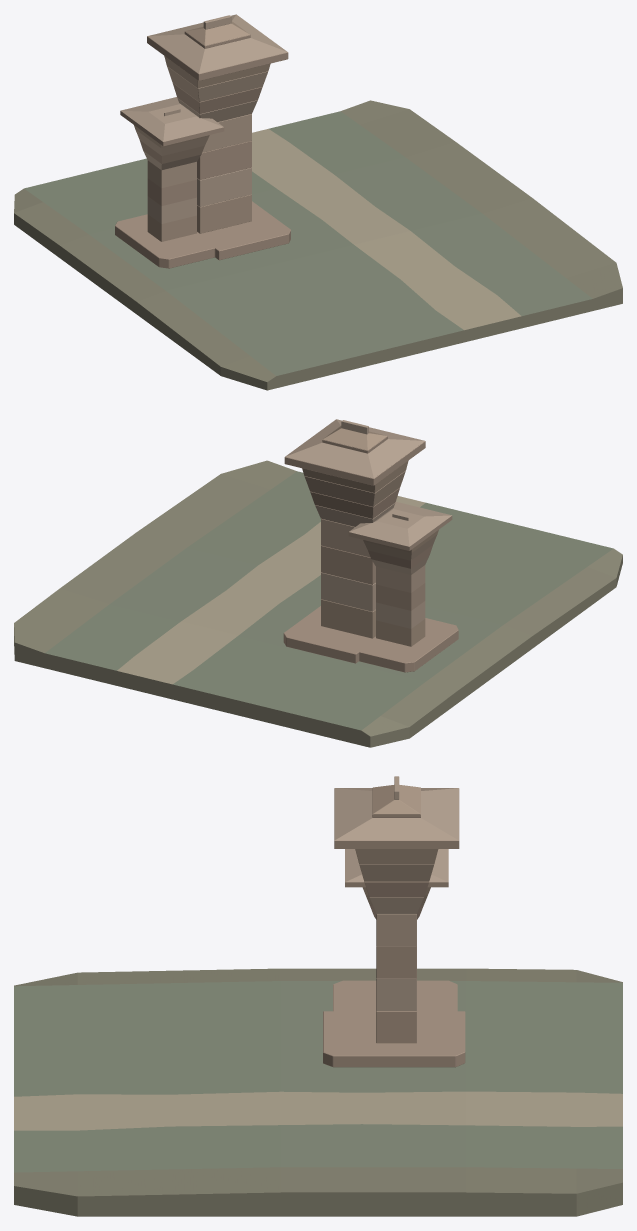
Rendered from que-B.glb.
3 renders of one model, top to bottom at view 1: azimuth 30°, elevation 25°; view 2: azimuth 150°, elevation 25°; view 3: azimuth 270°, elevation 25°, orthographic. The views are drawn at different scales.
Visible parts, largest first — view 1: C_continuous_terrain_and_tread, C_original_chamfered_plinth, B_main_lower_cover, B_sub_lower_cover, B_main_shaft_0, B_main_shaft_1, B_main_shaft_2, B_main_transition_2, B_main_broad_lower_eave, B_main_shaft_3, B_main_transition_1, B_sub_shaft_0 (+8 smaller); view 2: C_continuous_terrain_and_tread, C_original_chamfered_plinth, B_main_lower_cover, B_sub_lower_cover, B_main_shaft_0, B_main_shaft_1, B_main_shaft_2, B_main_transition_2, B_main_broad_lower_eave, B_main_shaft_3, B_main_transition_1, B_sub_shaft_0 (+9 smaller); view 3: C_continuous_terrain_and_tread, C_original_chamfered_plinth, B_main_lower_cover, B_main_compact_upper_cover, B_main_shaft_1, B_main_shaft_2, B_main_shaft_0, B_main_shaft_3, B_main_transition_3, B_main_transition_2, B_main_broad_lower_eave, B_sub_lower_cover (+2 smaller).
Boxes of the visible parts, x1=… form: C_continuous_terrain_and_tread: x1=14, y1=100, x2=622, y2=390; C_original_chamfered_plinth: x1=115, y1=201, x2=290, y2=268; B_main_lower_cover: x1=147, y1=14, x2=287, y2=73; B_sub_lower_cover: x1=121, y1=97, x2=223, y2=141; B_main_shaft_0: x1=197, y1=194, x2=251, y2=233; B_main_shaft_1: x1=197, y1=167, x2=251, y2=206; B_main_shaft_2: x1=197, y1=141, x2=251, y2=179; B_main_transition_2: x1=167, y1=66, x2=268, y2=101; B_main_broad_lower_eave: x1=147, y1=36, x2=288, y2=80; B_main_shaft_3: x1=202, y1=114, x2=251, y2=152; B_main_transition_1: x1=172, y1=83, x2=262, y2=113; B_sub_shaft_0: x1=147, y1=214, x2=196, y2=241; C_continuous_terrain_and_tread: x1=14, y1=460, x2=622, y2=747; C_original_chamfered_plinth: x1=283, y1=606, x2=458, y2=672; B_main_lower_cover: x1=285, y1=419, x2=424, y2=478; B_sub_lower_cover: x1=349, y1=501, x2=451, y2=546; B_main_shaft_0: x1=321, y1=599, x2=375, y2=638; B_main_shaft_1: x1=321, y1=572, x2=375, y2=611; B_main_shaft_2: x1=321, y1=545, x2=375, y2=584; B_main_transition_2: x1=304, y1=471, x2=405, y2=506; B_main_broad_lower_eave: x1=284, y1=441, x2=425, y2=485; B_main_shaft_3: x1=321, y1=518, x2=370, y2=557; B_main_transition_1: x1=310, y1=488, x2=399, y2=518; B_sub_shaft_0: x1=376, y1=619, x2=425, y2=646; C_continuous_terrain_and_tread: x1=14, y1=968, x2=622, y2=1216; C_original_chamfered_plinth: x1=323, y1=980, x2=465, y2=1067; B_main_lower_cover: x1=334, y1=788, x2=458, y2=840; B_main_compact_upper_cover: x1=372, y1=785, x2=420, y2=814; B_main_shaft_1: x1=376, y1=978, x2=416, y2=1010; B_main_shaft_2: x1=376, y1=946, x2=416, y2=978; B_main_shaft_0: x1=376, y1=1011, x2=416, y2=1043; B_main_shaft_3: x1=376, y1=914, x2=416, y2=946; B_main_transition_3: x1=355, y1=849, x2=438, y2=864; B_main_transition_2: x1=359, y1=864, x2=434, y2=881; B_main_broad_lower_eave: x1=334, y1=788, x2=459, y2=848; B_sub_lower_cover: x1=345, y1=849, x2=448, y2=882.
Bounding box in the file's own units: 9.5 × 5.25 × 10.5.
